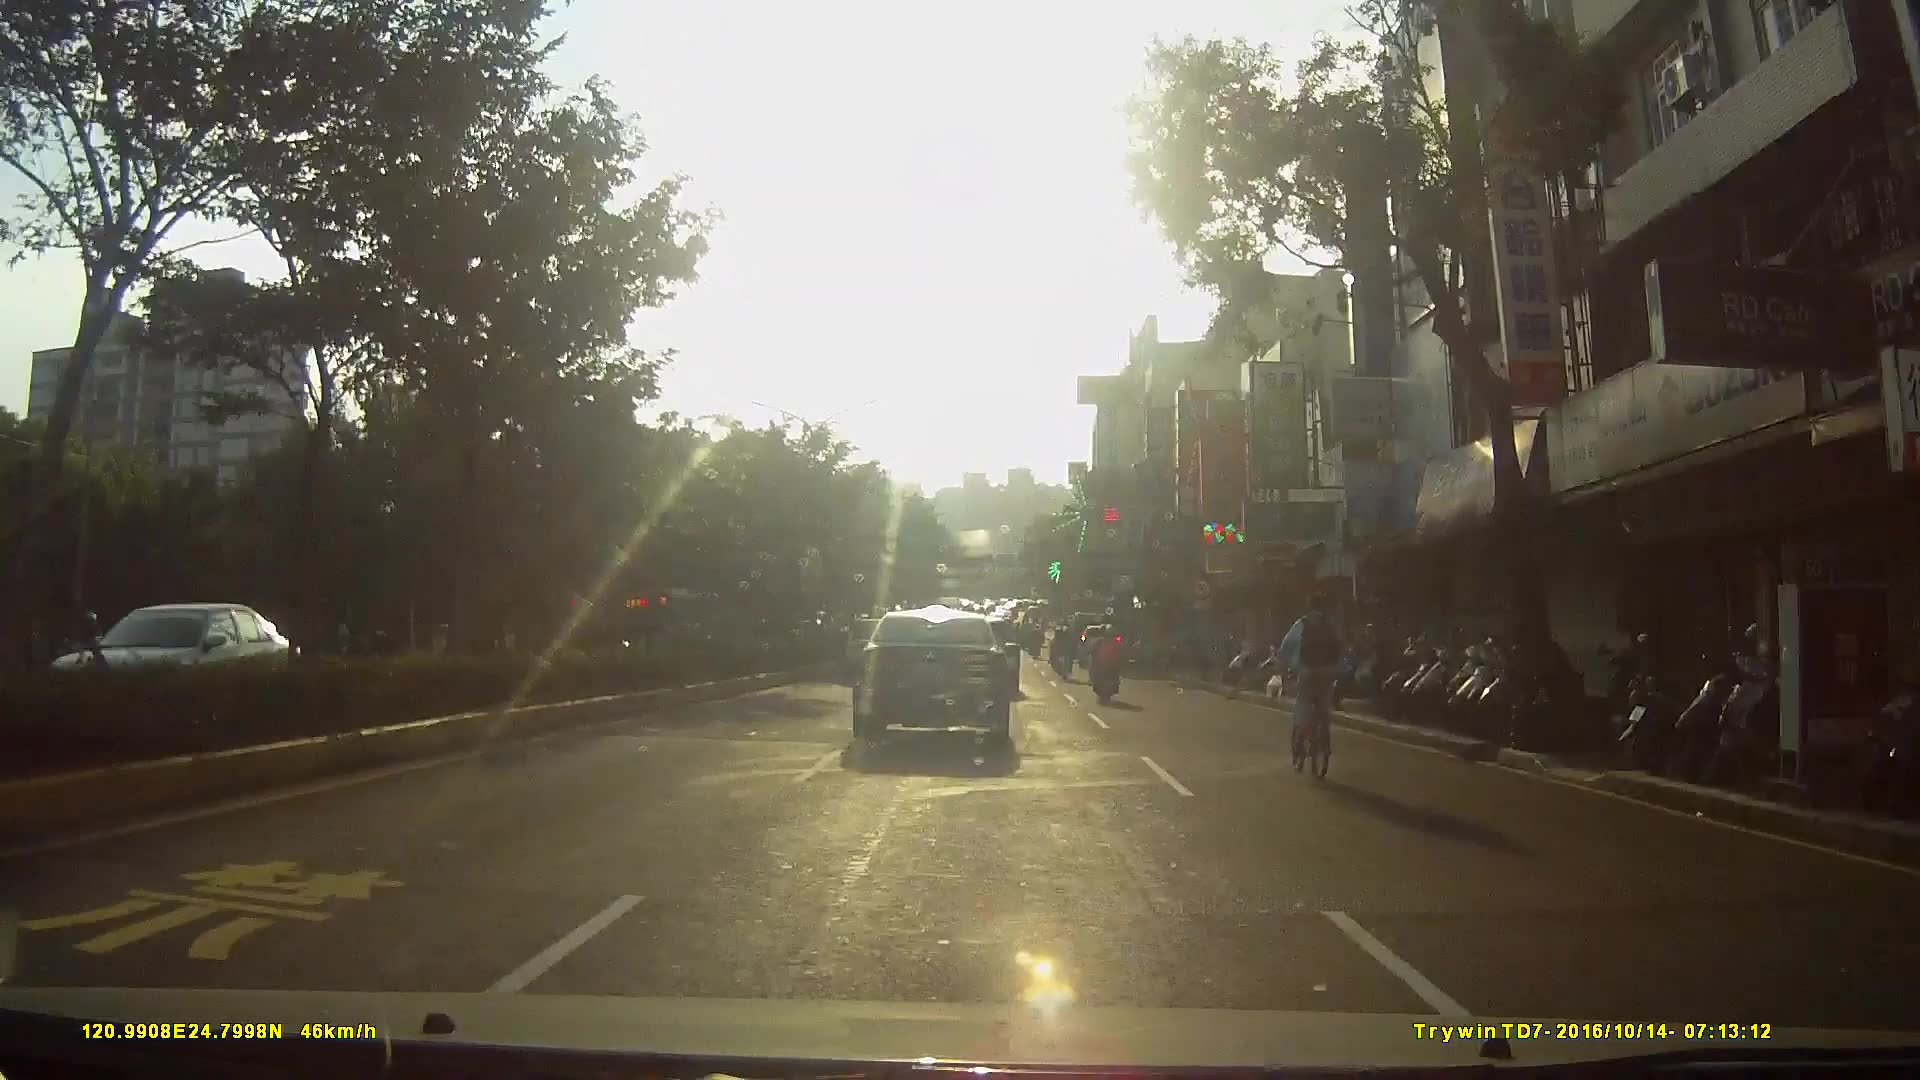rider: (1274, 587, 1354, 773), (1088, 623, 1123, 706), (1049, 622, 1077, 681)
vehicle: (854, 605, 1031, 767), (47, 598, 293, 710)
